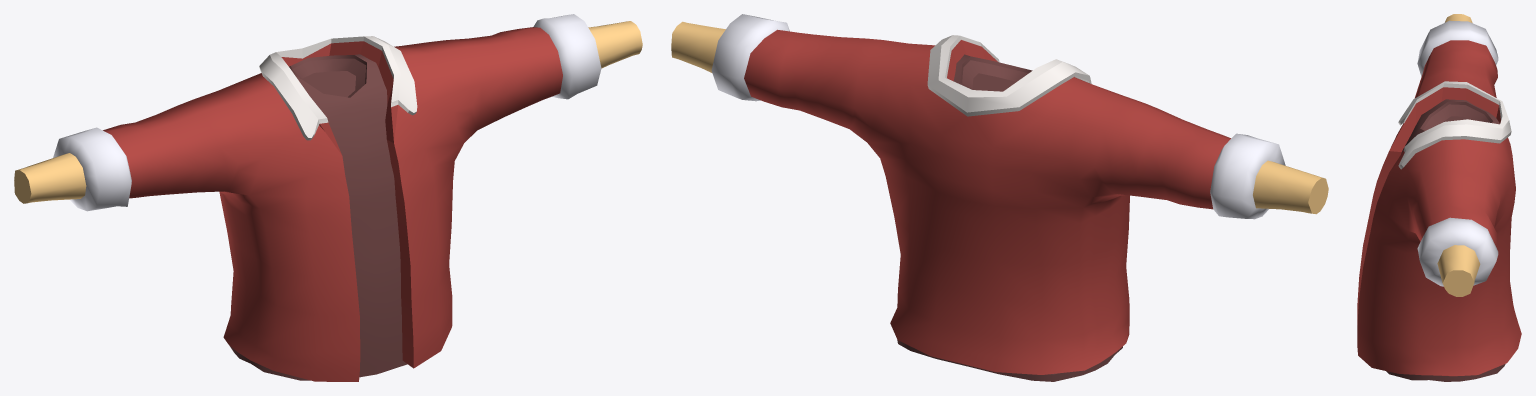
The model's file is Torso_03_02.fbx.
The picture shows the model from 3 angles, left to right: view 1: azimuth 30°, elevation 25°; view 2: azimuth 150°, elevation 25°; view 3: azimuth 270°, elevation 25°; orthographic projection. The views are drawn at different scales.
Parts seen in each view (by area): view 1: Torso_03_02; view 2: Torso_03_02; view 3: Torso_03_02.
Part boxes in pixels (left/top/right/bottom): Torso_03_02: left=14, top=14, right=642, bottom=381; Torso_03_02: left=671, top=14, right=1328, bottom=381; Torso_03_02: left=1357, top=14, right=1521, bottom=381.
Size of the model in its own units: 118 by 53.04 by 31.99.
